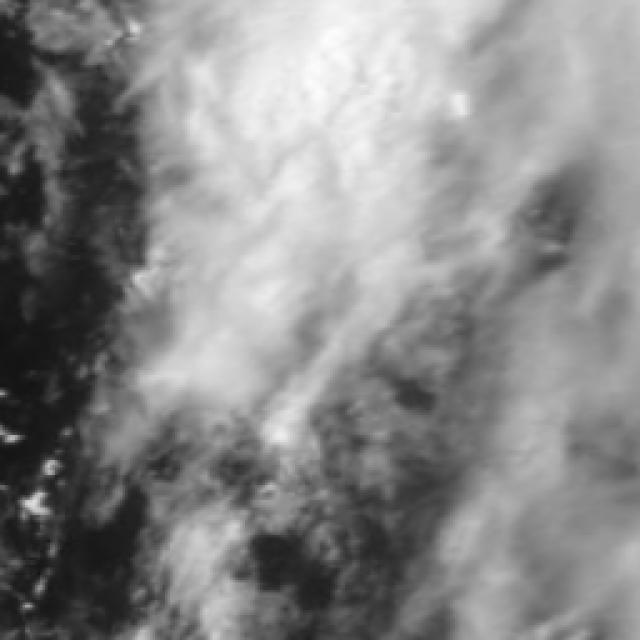CB: (241, 0, 425, 212)
